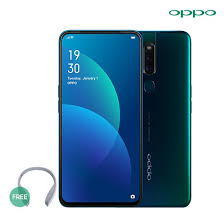oppo: (56, 29, 141, 206), (135, 27, 195, 206)
